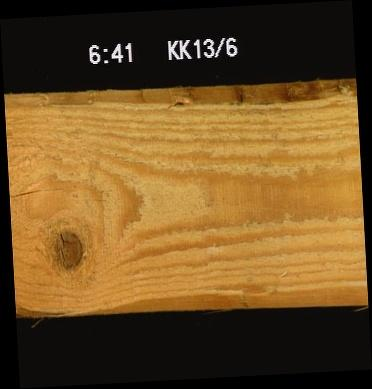dry_knot: (48, 226, 83, 268)
split: (9, 183, 72, 203)
wave: (40, 85, 355, 108), (21, 299, 269, 321)
